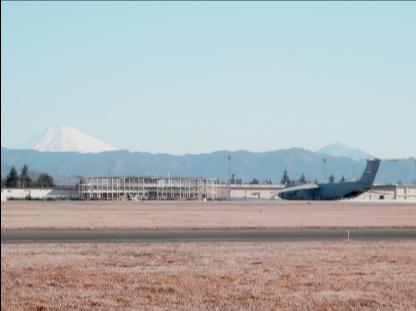C17: (270, 157, 398, 200)
